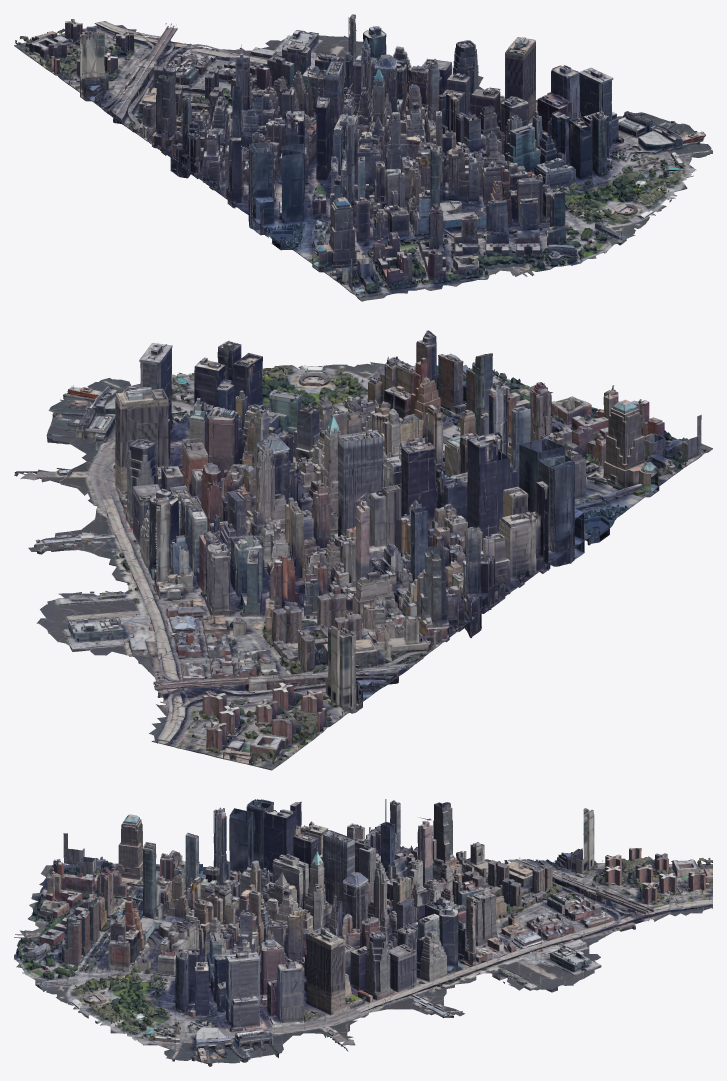
Rendered from manhattan_optimized.glb.
3 views of the same model, one above another, from view 1: azimuth 30°, elevation 25°; view 2: azimuth 150°, elevation 25°; view 3: azimuth 270°, elevation 25° (orthographic). The views are drawn at different scales.
Parts seen in each view (by area): view 1: Object_4, Object_3, Object_9, Object_8, Object_6, Object_7, Object_10, Object_5, Object_11, Object_15, Object_14, Object_16 (+2 smaller); view 2: Object_9, Object_3, Object_4, Object_6, Object_8, Object_7, Object_5, Object_11, Object_10, Object_15, Object_16, Object_12 (+2 smaller); view 3: Object_3, Object_9, Object_4, Object_5, Object_10, Object_8, Object_11, Object_6, Object_7, Object_15, Object_16, Object_13 (+2 smaller).
Part boxes in pixels (left/top/right/bottom): Object_4: left=14, top=21, right=679, bottom=301; Object_3: left=118, top=30, right=712, bottom=281; Object_9: left=171, top=14, right=618, bottom=209; Object_8: left=77, top=26, right=612, bottom=251; Object_6: left=128, top=29, right=641, bottom=256; Object_7: left=305, top=55, right=602, bottom=208; Object_10: left=231, top=48, right=612, bottom=224; Object_5: left=71, top=19, right=615, bottom=290; Object_11: left=72, top=17, right=535, bottom=276; Object_15: left=36, top=40, right=520, bottom=237; Object_14: left=202, top=103, right=570, bottom=246; Object_16: left=59, top=65, right=555, bottom=250; Object_9: left=36, top=343, right=584, bottom=623; Object_3: left=14, top=356, right=585, bottom=709; Object_4: left=53, top=365, right=712, bottom=770; Object_6: left=149, top=330, right=598, bottom=733; Object_8: left=127, top=340, right=656, bottom=699; Object_7: left=146, top=342, right=475, bottom=574; Object_5: left=102, top=394, right=670, bottom=754; Object_11: left=138, top=373, right=701, bottom=728; Object_10: left=122, top=348, right=564, bottom=581; Object_15: left=191, top=407, right=556, bottom=748; Object_16: left=81, top=376, right=527, bottom=726; Object_12: left=109, top=431, right=460, bottom=637; Object_3: left=14, top=882, right=626, bottom=1066; Object_9: left=142, top=799, right=573, bottom=1014; Object_4: left=24, top=848, right=712, bottom=1032; Object_5: left=29, top=860, right=712, bottom=1032; Object_10: left=110, top=833, right=411, bottom=1007; Object_8: left=115, top=801, right=621, bottom=1013; Object_11: left=47, top=802, right=703, bottom=984; Object_6: left=66, top=823, right=691, bottom=1032; Object_7: left=115, top=867, right=454, bottom=991; Object_15: left=110, top=848, right=669, bottom=984; Object_16: left=81, top=863, right=626, bottom=1009; Object_13: left=153, top=874, right=397, bottom=1033.
Bounding box in the file's own units: 8.07 × 2.23 × 11.93.
1 material, 1 textured.
